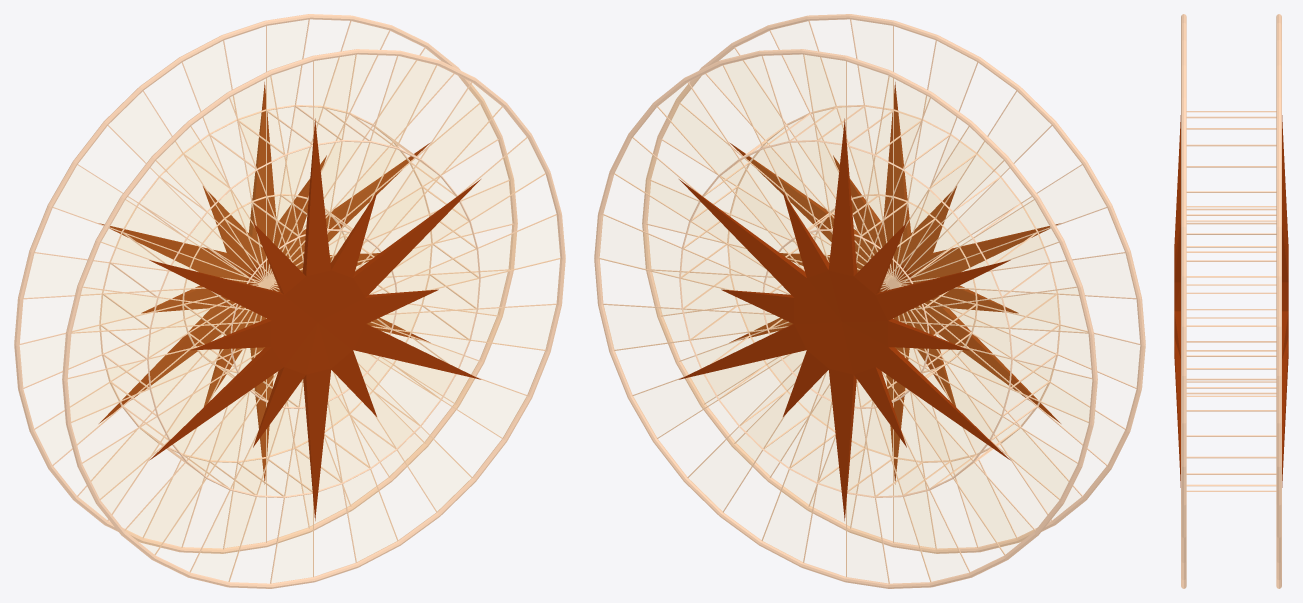
File: Ferris_wheel.glb
The picture shows the model from 3 angles, left to right: view 1: azimuth 30°, elevation 25°; view 2: azimuth 150°, elevation 25°; view 3: azimuth 270°, elevation 25°; orthographic projection.
Parts seen in each view (by area): view 1: Ferris_wheel, Ferris_wheel_glass; view 2: Ferris_wheel, Ferris_wheel_glass; view 3: Ferris_wheel.
Part boxes in pixels (x1,y1,x2,y2): Ferris_wheel: (14, 14, 565, 588); Ferris_wheel_glass: (70, 55, 509, 547); Ferris_wheel: (594, 14, 1145, 588); Ferris_wheel_glass: (650, 55, 1089, 547); Ferris_wheel: (1174, 14, 1288, 588).
Size of the model in its own units: 60.6 by 60.6 by 11.99.
1 material, 1 textured.
